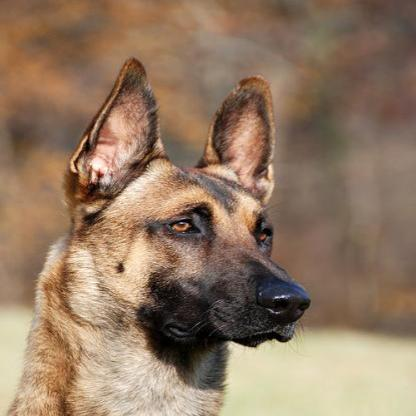malinois: (4, 50, 310, 413)
